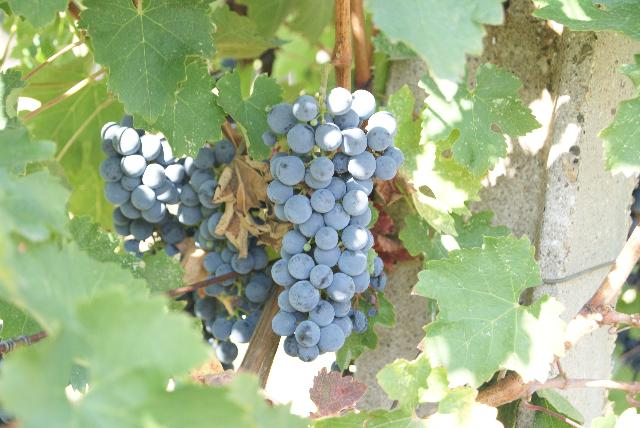grapes: (261, 86, 405, 361), (99, 121, 235, 252)
